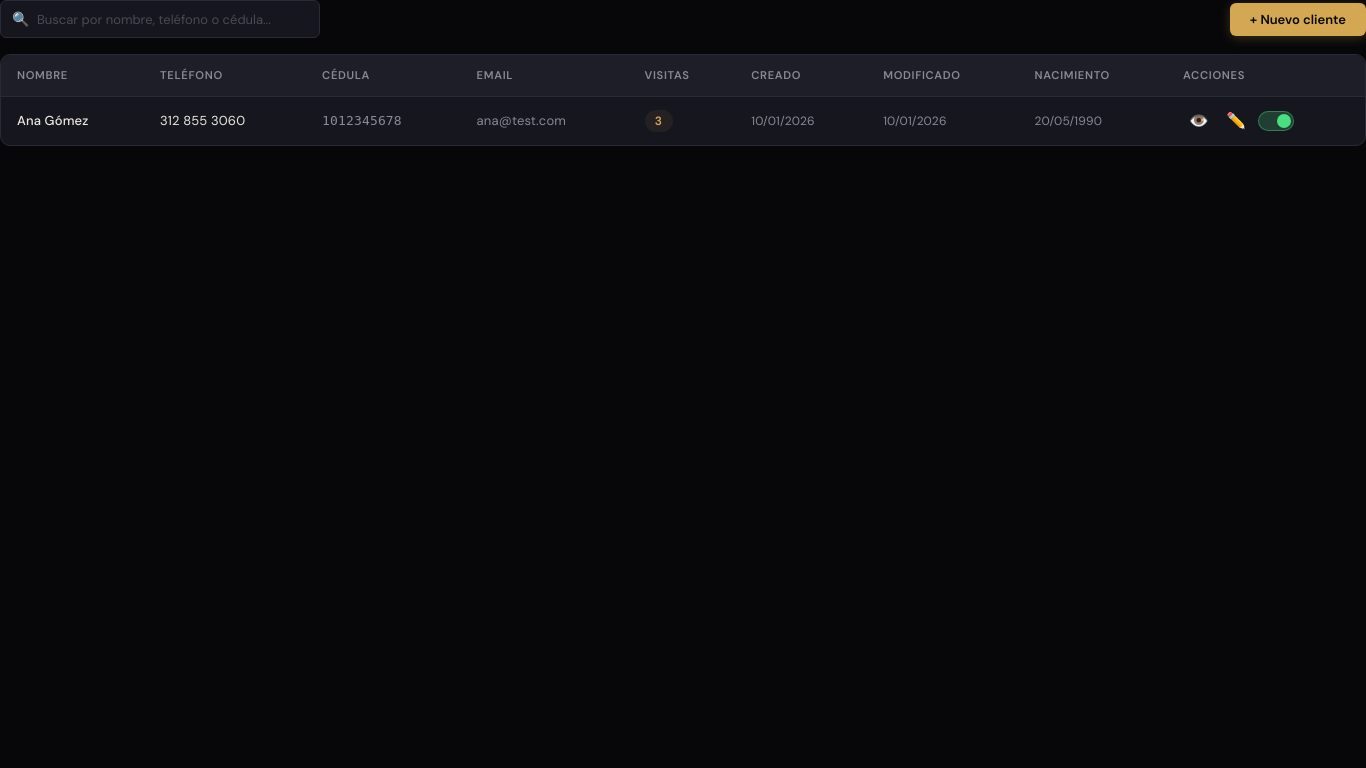
ClientesPage — listado y CRUD › detalle: el botón "Ver" abre el modal con los datos del cliente
Click the button named "Ver detalle".
click(1199, 121)  # box [1183,109,1214,133]
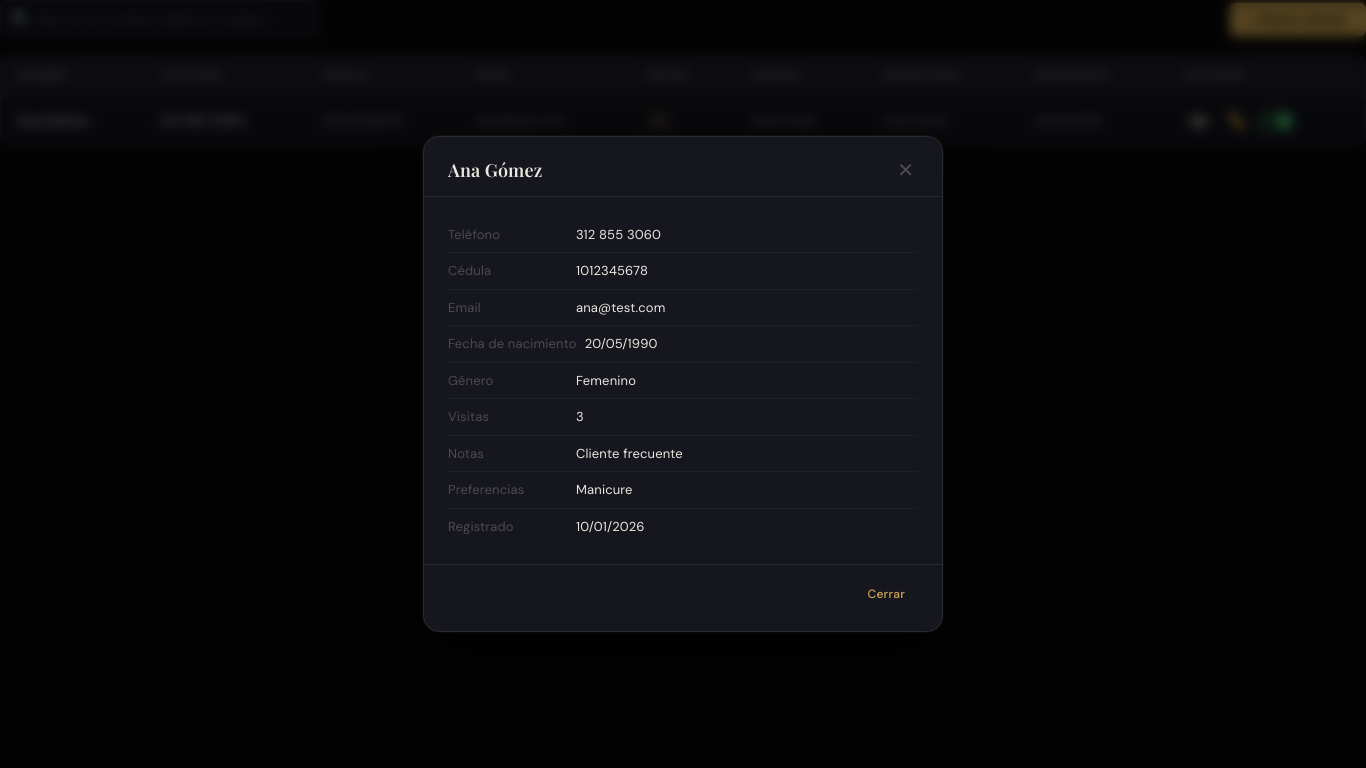
Expected: the text "Cliente frecuente" is shown, [576,444,683,463]
